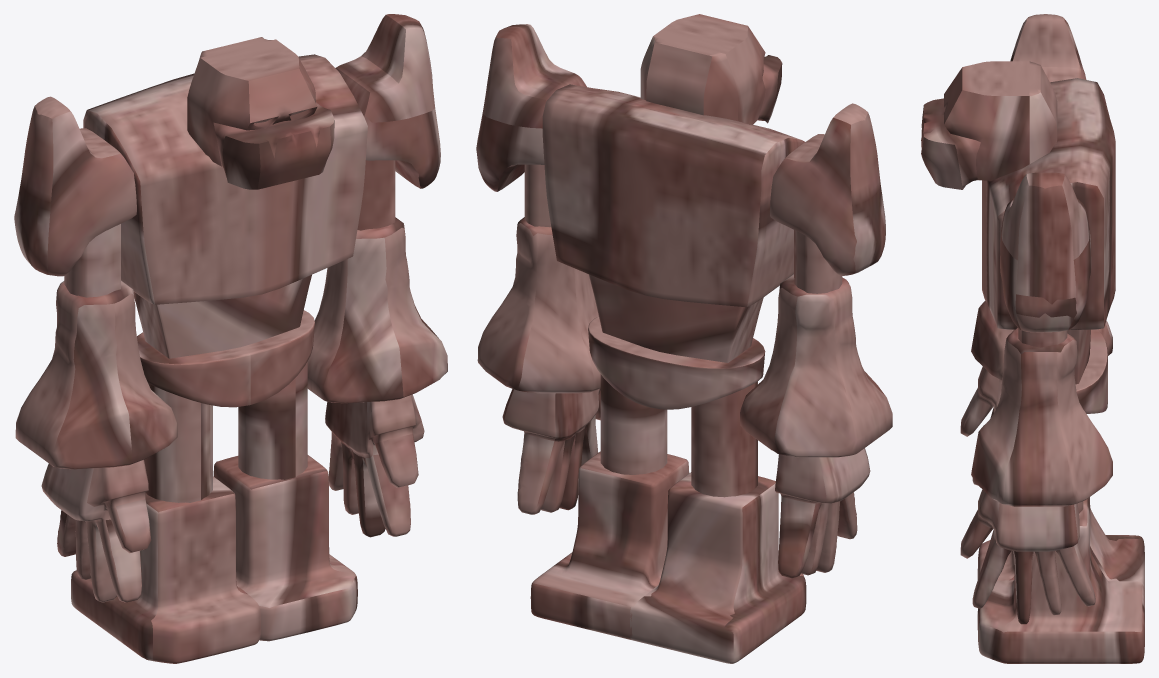
File: Golem.fbx
3 views of the same model, side by side, from view 1: azimuth 30°, elevation 25°; view 2: azimuth 150°, elevation 25°; view 3: azimuth 270°, elevation 25° (orthographic). The views are drawn at different scales.
Parts seen in each view (by area): view 1: Box009; view 2: Box009; view 3: Box009.
Part boxes in pixels (x1,y1,x2,y2): Box009: [14, 14, 447, 663]; Box009: [476, 14, 892, 663]; Box009: [921, 14, 1144, 663].
Bounding box in the file's own units: 61.89 × 83.74 × 31.49.
1 material, 1 textured.
